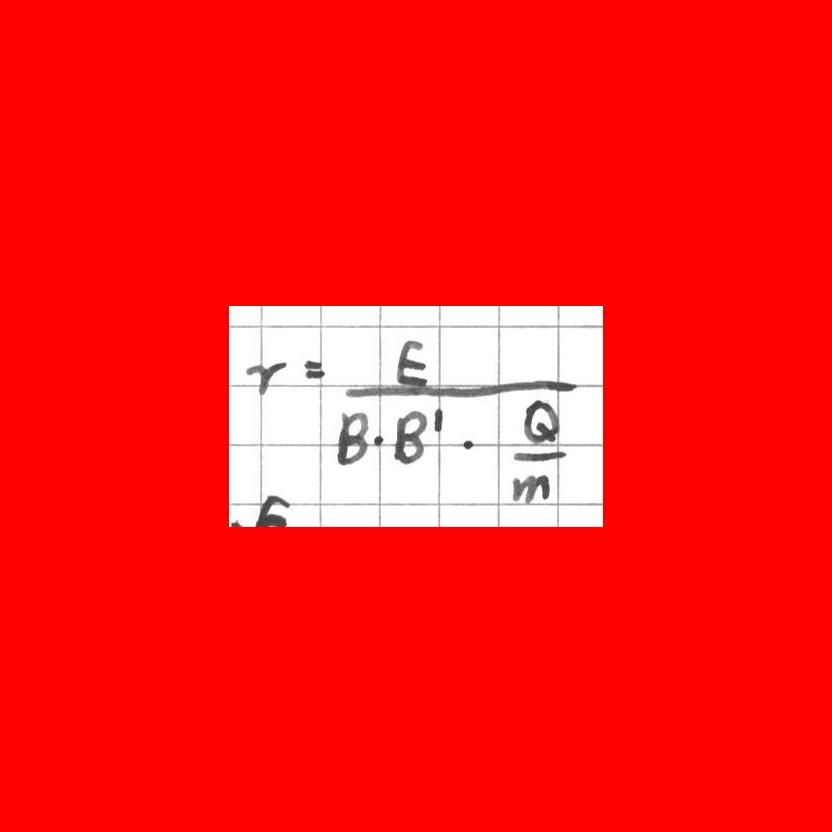Char: (338, 378, 577, 400), (392, 407, 426, 468), (393, 335, 429, 390), (334, 411, 371, 464), (249, 487, 295, 525), (245, 357, 288, 396), (522, 400, 559, 443), (510, 445, 572, 469), (511, 469, 551, 506), (301, 356, 327, 382), (430, 405, 446, 434), (457, 434, 478, 453), (371, 429, 388, 449)
